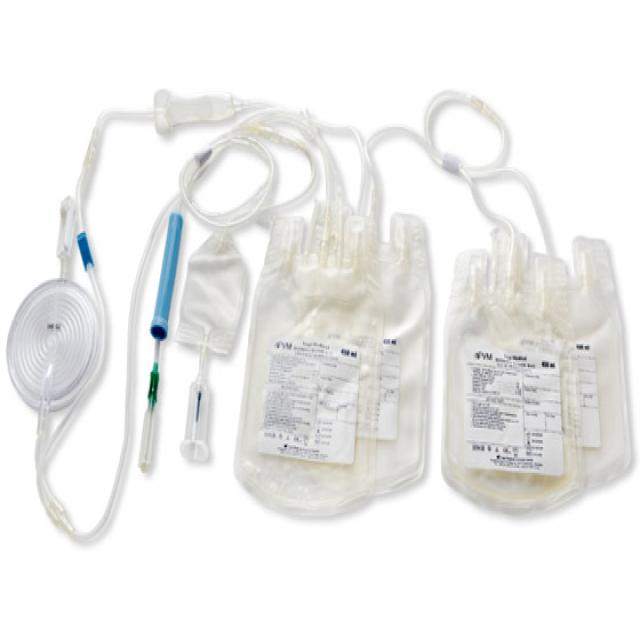B3: (232, 210, 382, 532), (438, 245, 590, 513)
